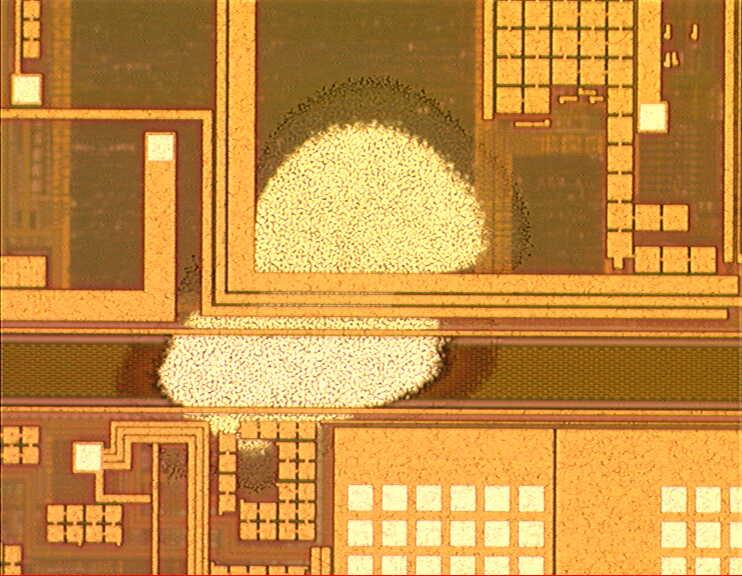BLOCK ETCH: (111, 73, 532, 496)
